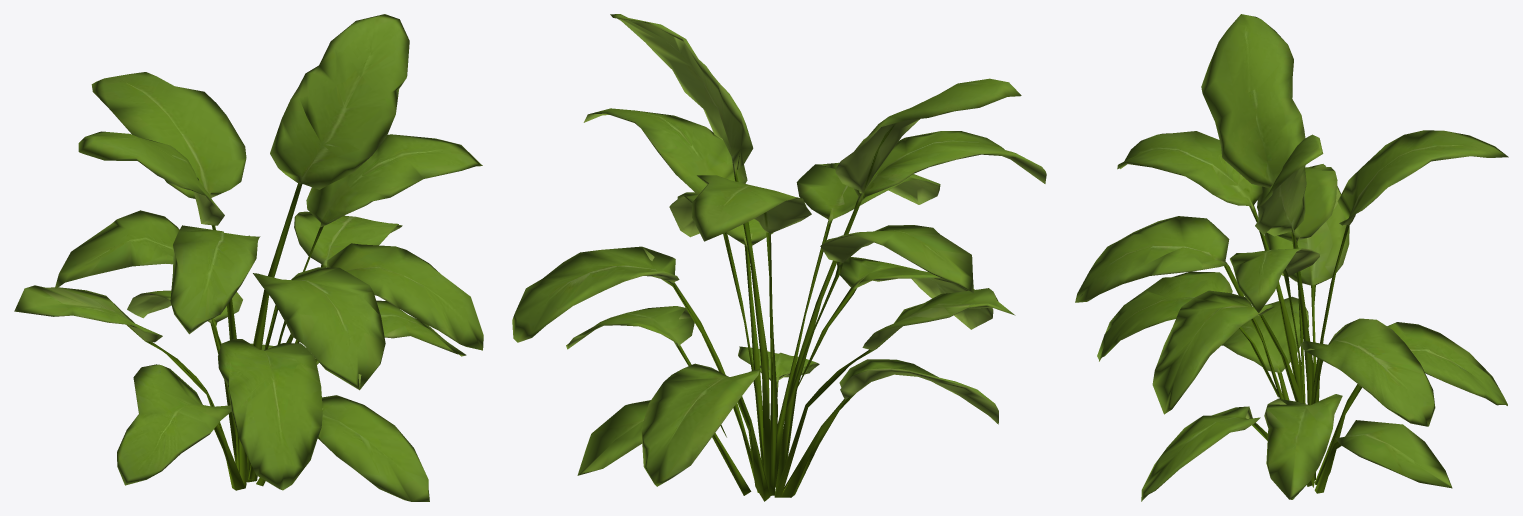
Rendered from leafy.glb.
3 renders of one model, left to right at view 1: azimuth 30°, elevation 25°; view 2: azimuth 150°, elevation 25°; view 3: azimuth 270°, elevation 25°, orthographic. The views are drawn at different scales.
Visible parts, largest first — view 1: tripo_node_f7424314-60b4-4bed-b736-eec4670cec4f; view 2: tripo_node_f7424314-60b4-4bed-b736-eec4670cec4f; view 3: tripo_node_f7424314-60b4-4bed-b736-eec4670cec4f.
Part boxes in pixels (x1,y1,x2,y2): tripo_node_f7424314-60b4-4bed-b736-eec4670cec4f: [14, 14, 483, 501]; tripo_node_f7424314-60b4-4bed-b736-eec4670cec4f: [512, 14, 1046, 501]; tripo_node_f7424314-60b4-4bed-b736-eec4670cec4f: [1075, 14, 1508, 501].
Bounding box in the file's own units: 0.3227 × 0.3 × 0.2968.
1 material, 1 textured.
